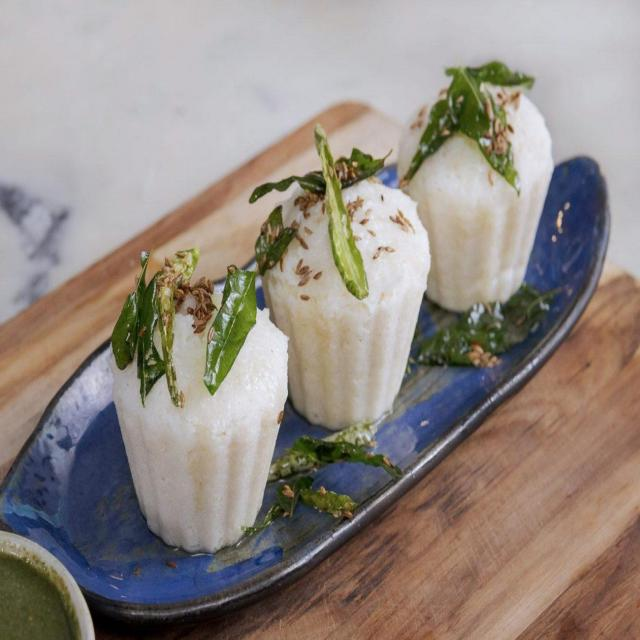dhokla: (128, 281, 278, 546), (274, 151, 405, 417), (410, 66, 539, 297)
